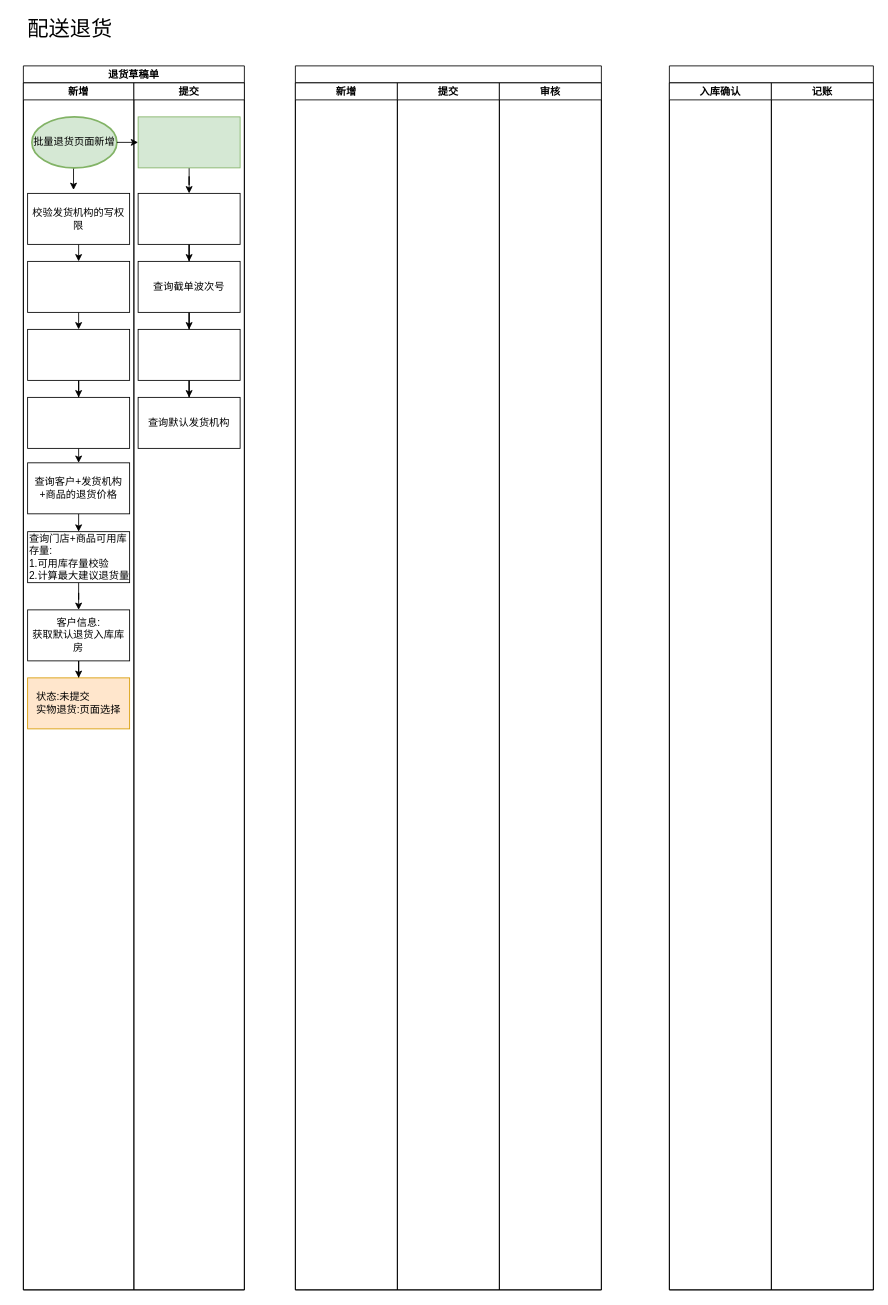
Some shapes in this 888 by 1305 pixel diagram are drawn without their labels. The shapes that lost their labels are listed below. From the top down, each one's box as (x1, y1, x2, y2) in pixels, then its label:
(137, 116, 240, 168): 单条提交
(137, 193, 240, 244): 根据机构查询配送中心/结算机构/客户结算机构信息
(27, 261, 130, 312): 商品小数控制: 校验退货数量是否满足小数控制
(27, 329, 130, 380): 赠品属性: 赠品允许价格为0
(137, 329, 240, 380): 查询客户退货出库库房
(27, 397, 130, 448): 查询基础商品信息: 1.商品信息赋值 2.查询退货价格需要销售单位信息
(295, 65, 601, 1290): 退货申请单
(669, 65, 873, 1290): 退货入库单
